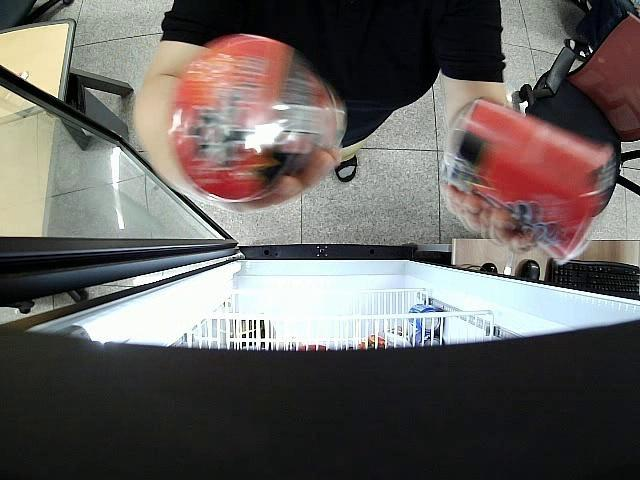02_shinRamen_S: (164, 34, 346, 202), (446, 98, 614, 268)
